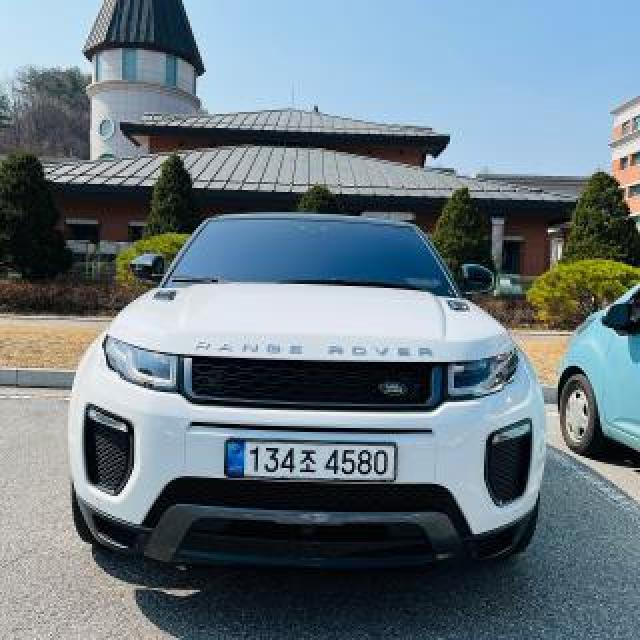car: (61, 203, 551, 602)
illegal_plate: (223, 434, 400, 492)
